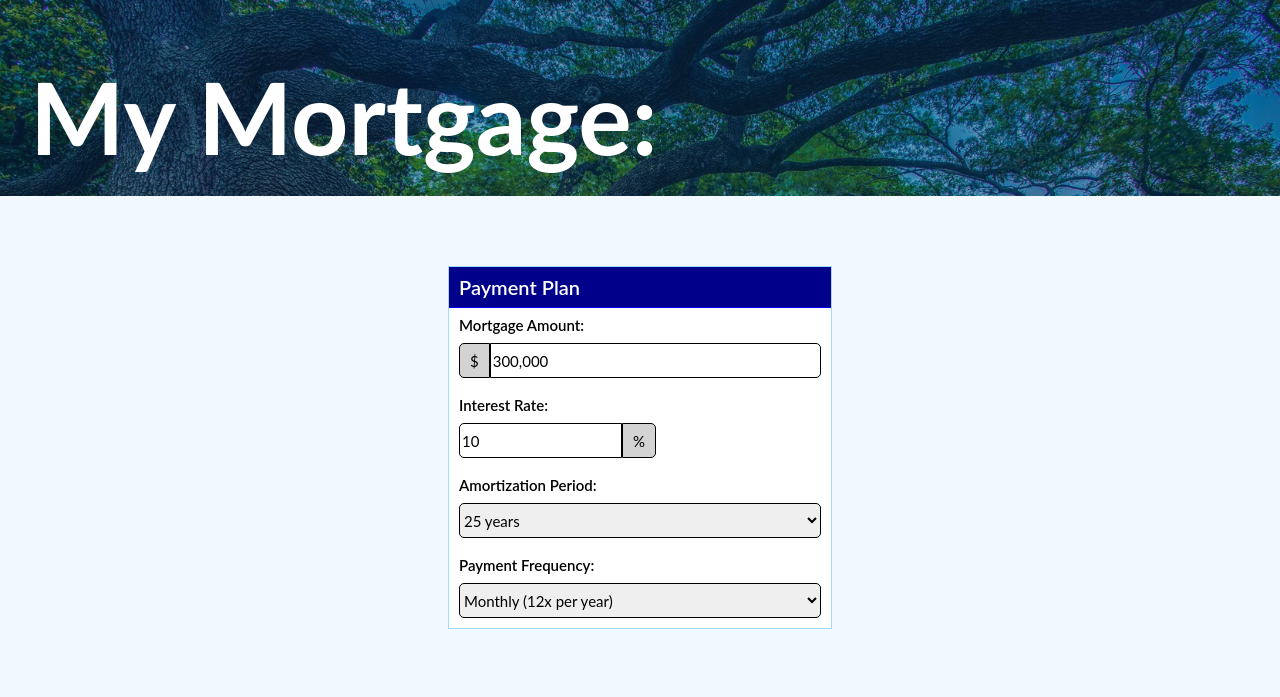
Test: LiveCalculationSummary › hooks into the values of inputs in Form component and renders appropriate totalCost value
(page scrolled)
Type "1" into the field.
click(655, 360); type("1")  # box [490,343,821,378]
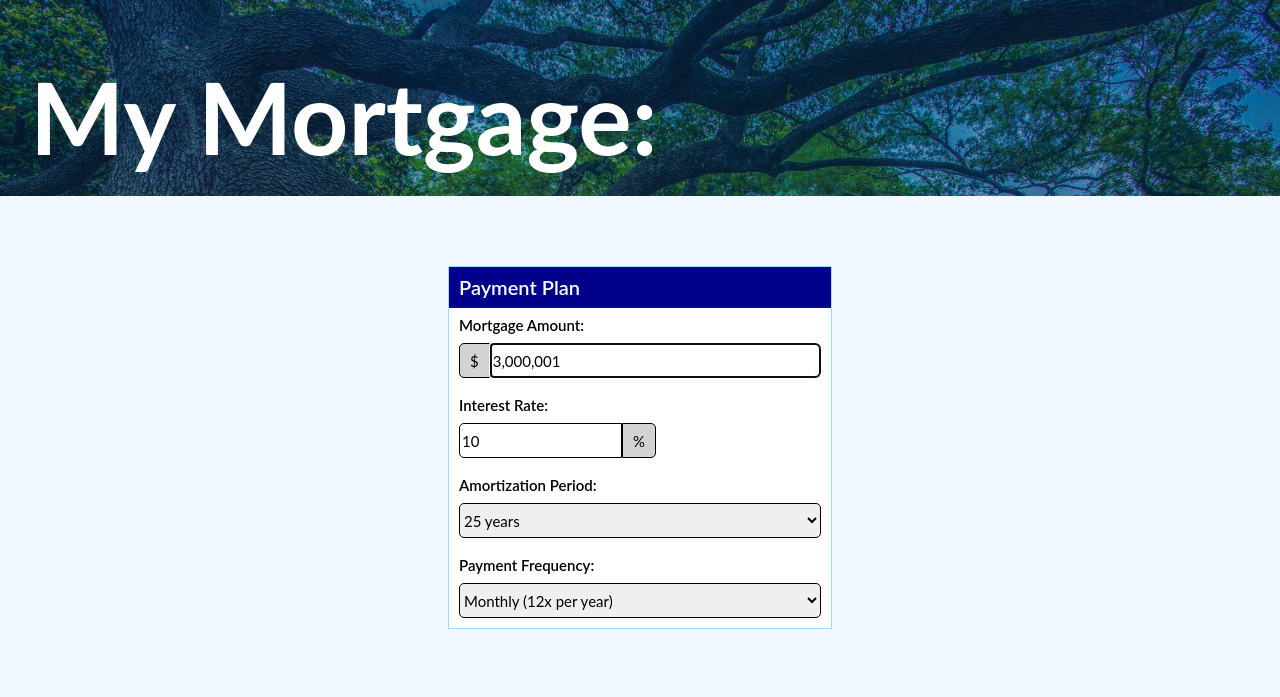
Replace the text in the number field with "5" at (540, 440), box [459,423,622,458]
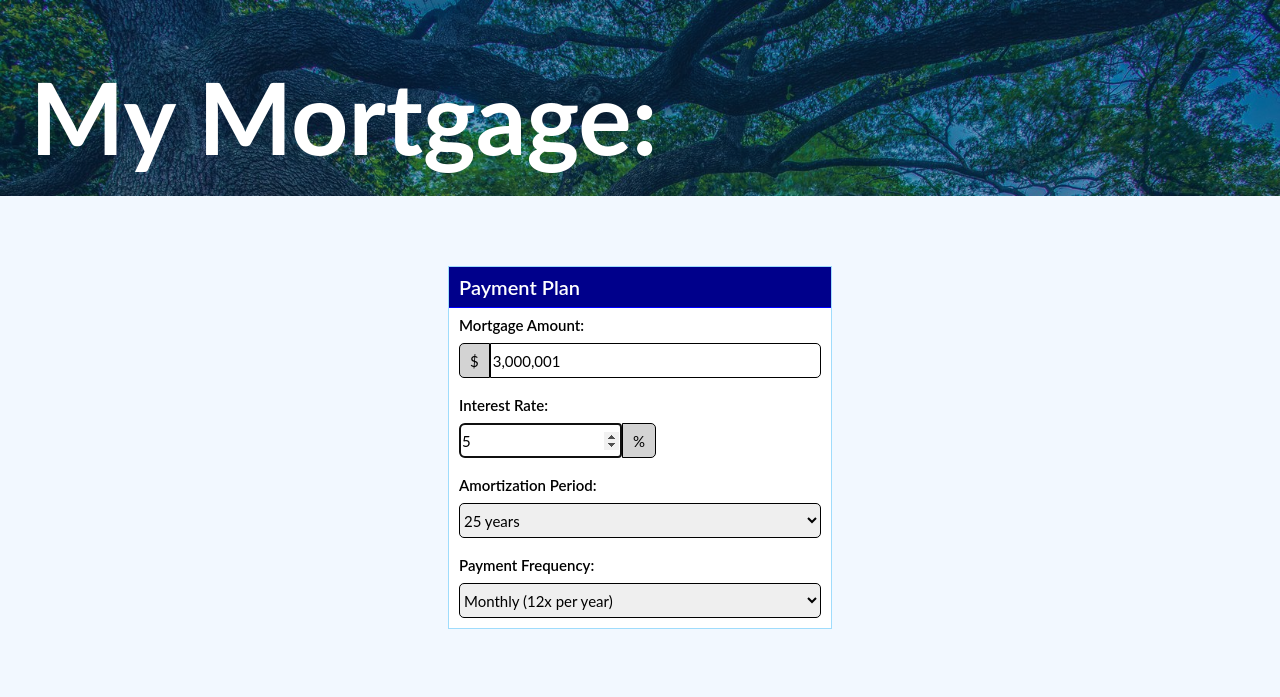
Select "30 years" in the dropdown labelled "Amortization Period:" at (640, 520), box [459,503,821,538]
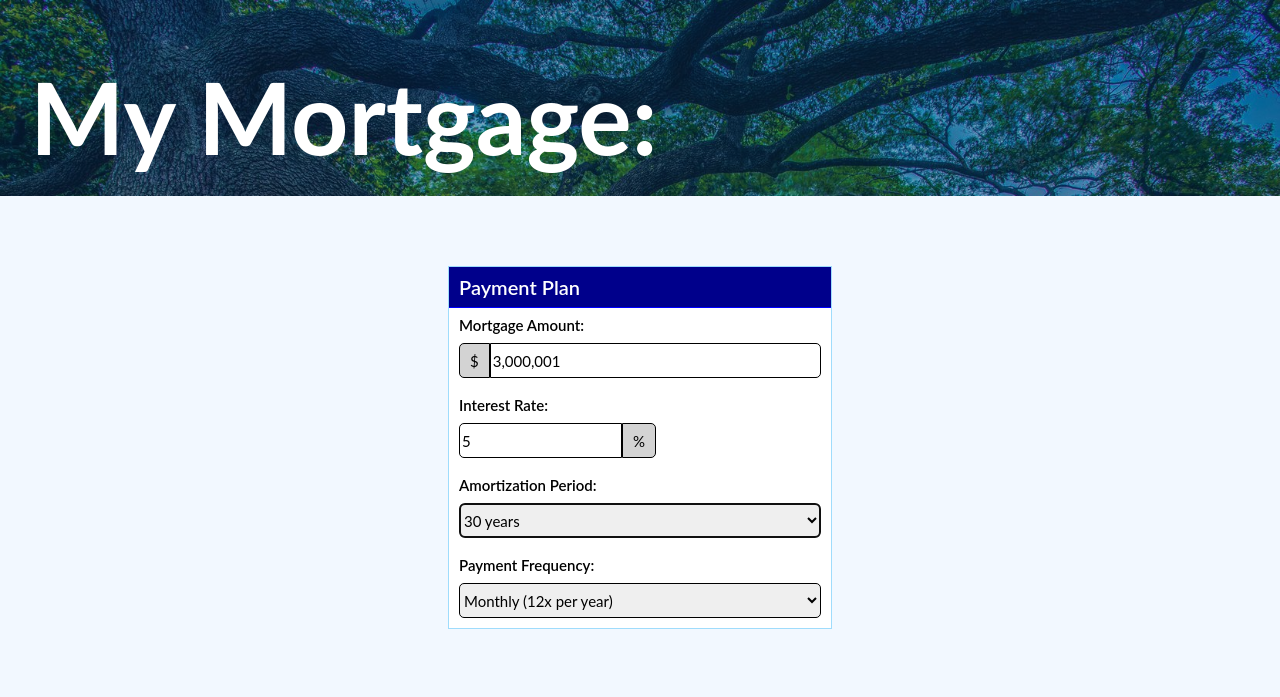
Select "Weekly (52x per year)" in the dropdown labelled "Payment Frequency:" at (640, 600), box [459,583,821,618]
(page scrolled)
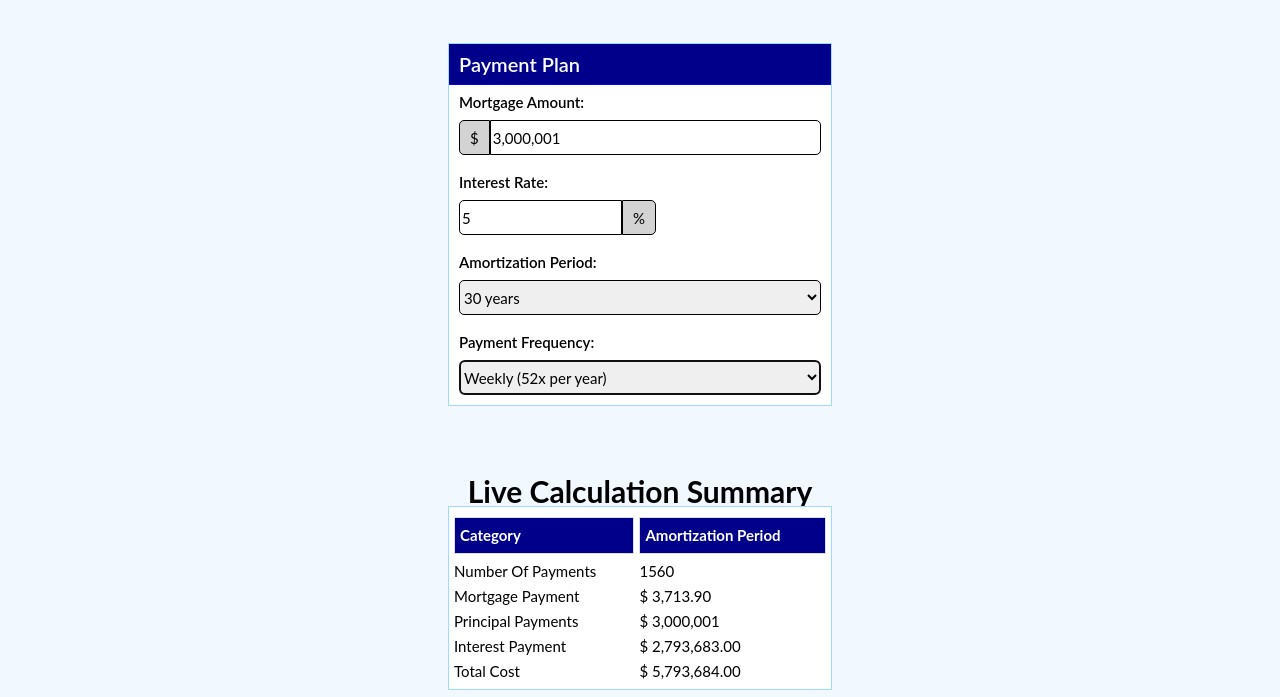
Check: the cell "$ 5,793,684.00" is shown, box [639,664,826,679]
